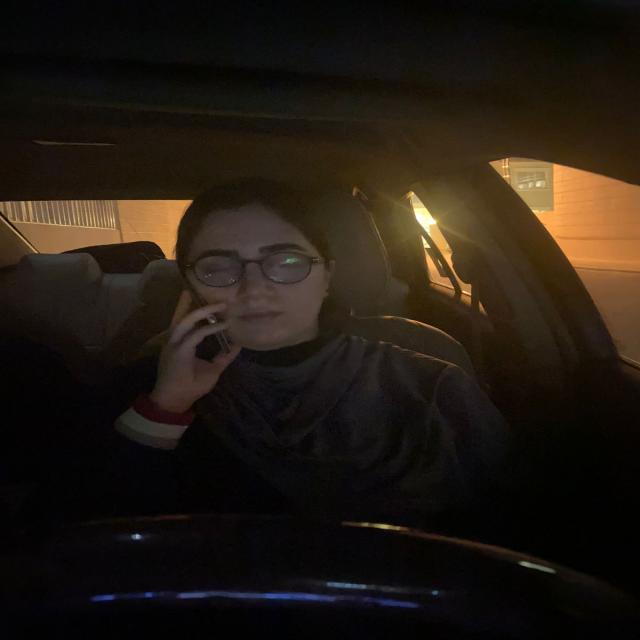drowsy: (166, 181, 350, 356)
